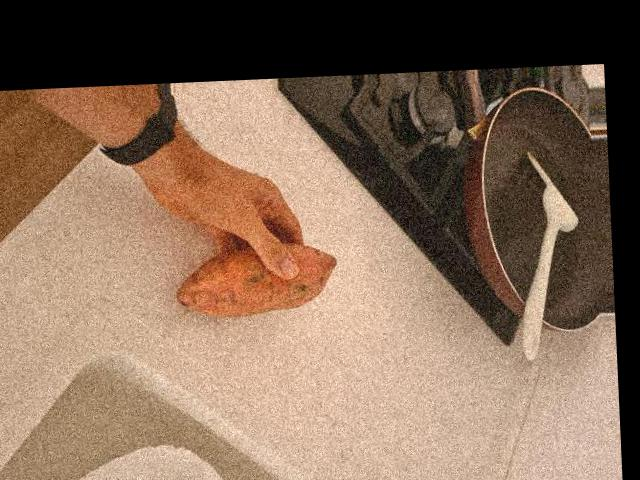sweet_potato: (173, 238, 332, 311)
